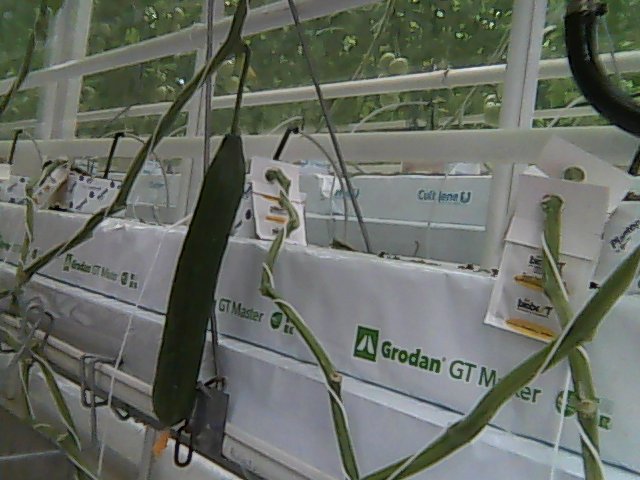concombre: (148, 121, 250, 454)
